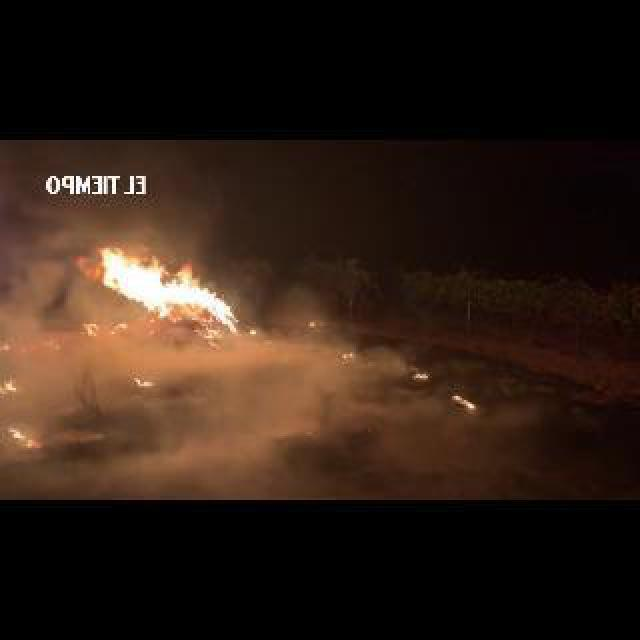Fire: (76, 246, 254, 334), (10, 426, 38, 448), (4, 374, 24, 394), (454, 394, 478, 410), (134, 376, 154, 384), (416, 370, 432, 380), (342, 352, 356, 358), (308, 320, 316, 324)
